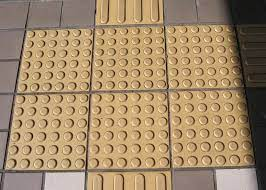guide_blocks: (11, 24, 254, 166), (86, 172, 171, 190), (95, 1, 161, 23)
